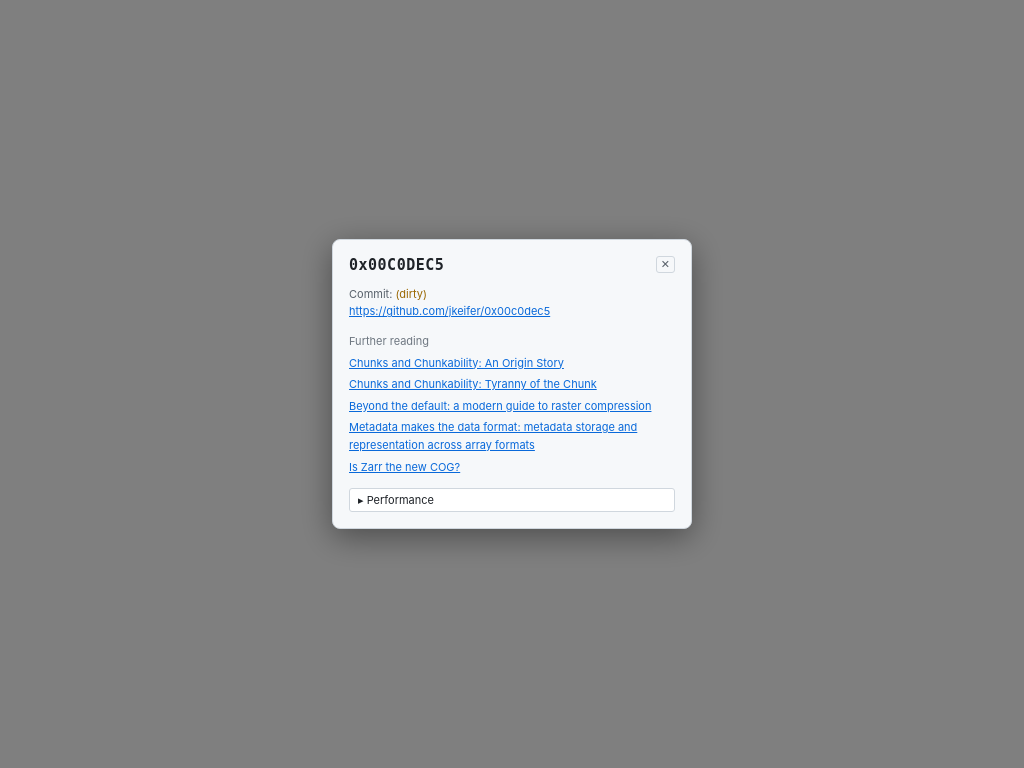
Test: AboutModal › does not show performance content until the toggle is clicked
Expected: the text "Worker status:" is not shown
Expected: the text "values" is not shown
Click the button with test id "about-performance-toggle": (399,500) top-left (349, 488), bottom-right (675, 512)
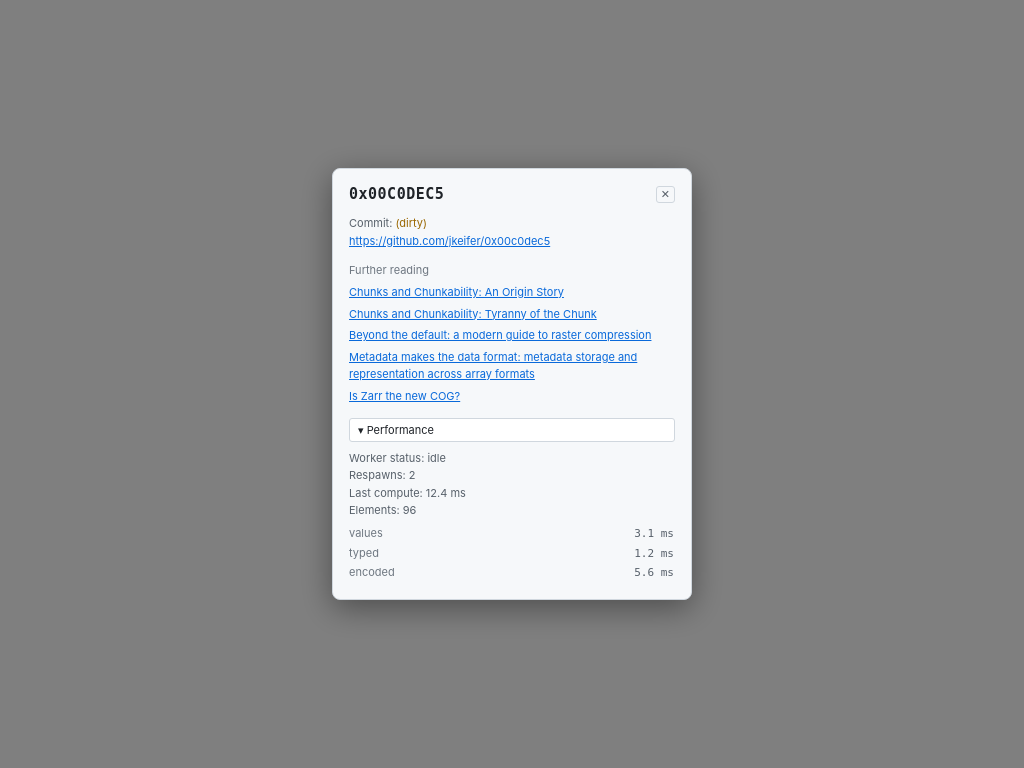
Expected: the text "Worker status: idle" is shown, top-left (349, 451), bottom-right (446, 465)
Expected: the text "values" is shown, top-left (349, 524), bottom-right (519, 544)
Expected: the text "typed" is shown, top-left (349, 544), bottom-right (519, 563)
